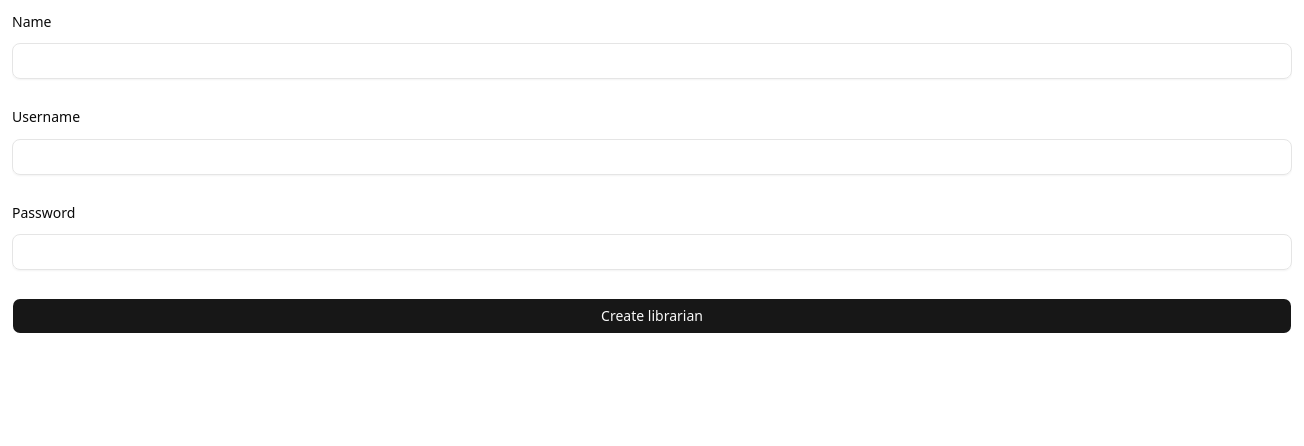
Test: CreateLibrarianForm › validates the fields before calling the API
Type "has space" into the field labelled "Username" at (652, 156), box [12,138,1292,174]
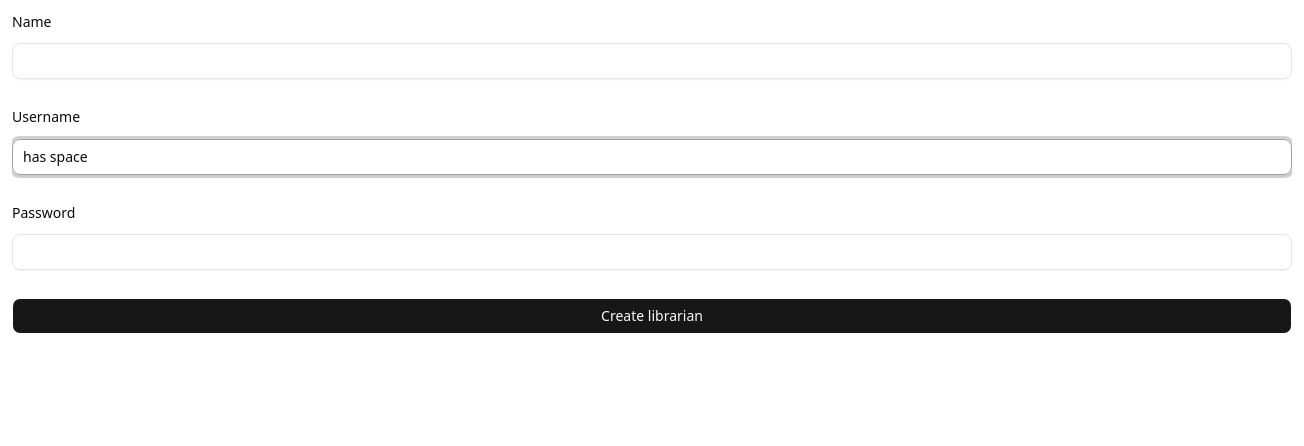
Type "short" into the password field labelled "Password" at (652, 252), box [12,234,1292,270]
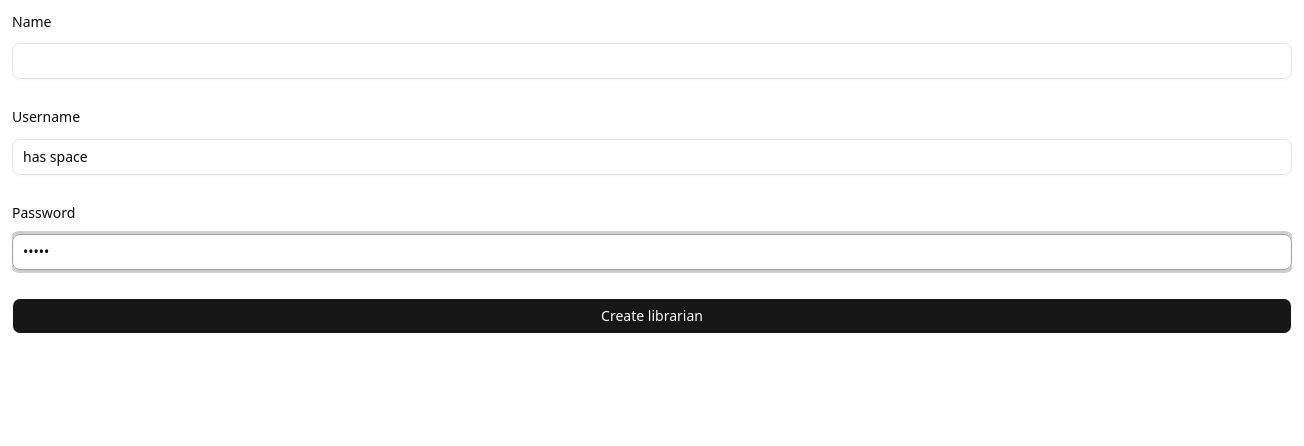
Click the button "Create librarian" at (652, 316), box [12,298,1292,334]
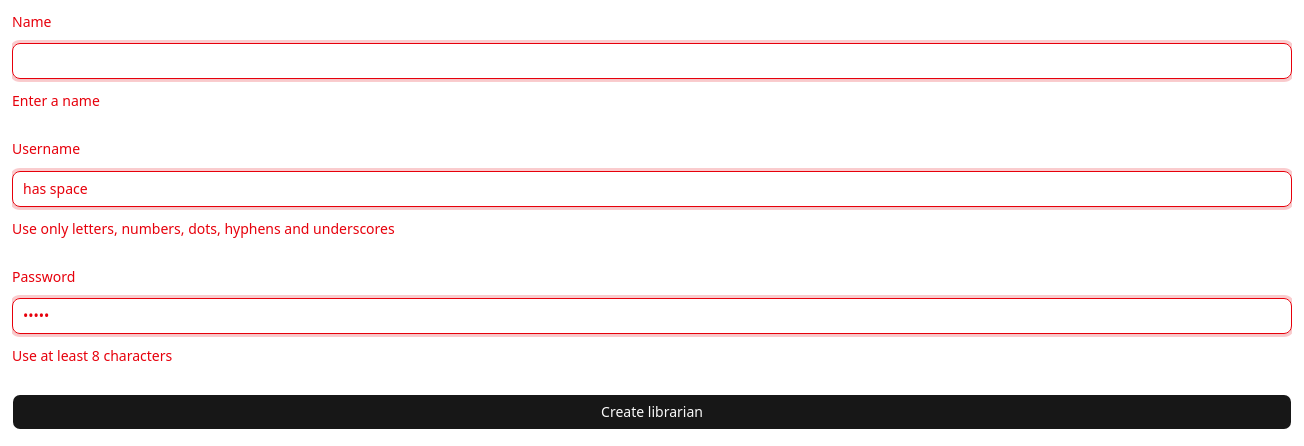
Expected: the text "Enter a name" is shown, [12,91,100,110]
Expected: the text "Use only letters, numbers, dots, hyphens and underscores" is shown, [12,218,395,238]
Expected: the text "Use at least 8 characters" is shown, [12,346,172,365]
